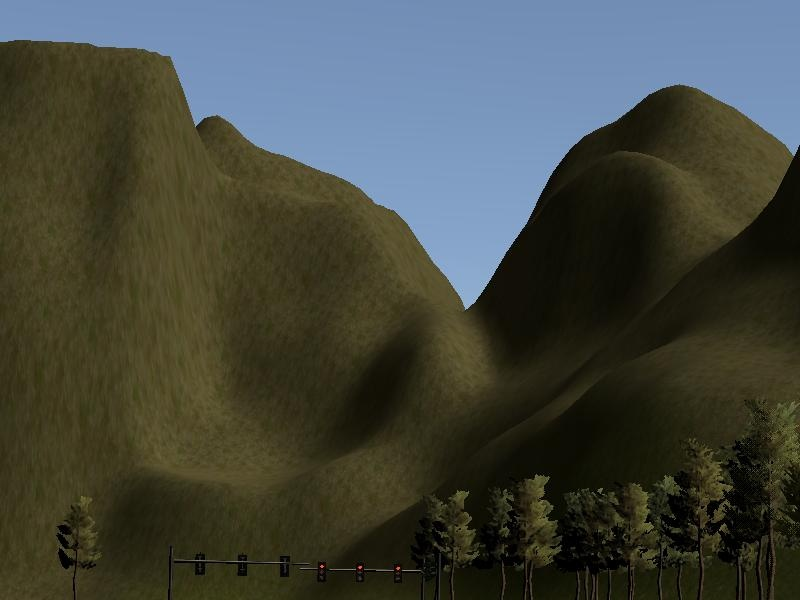red: (317, 562, 327, 583), (393, 563, 403, 584), (356, 563, 364, 583)
